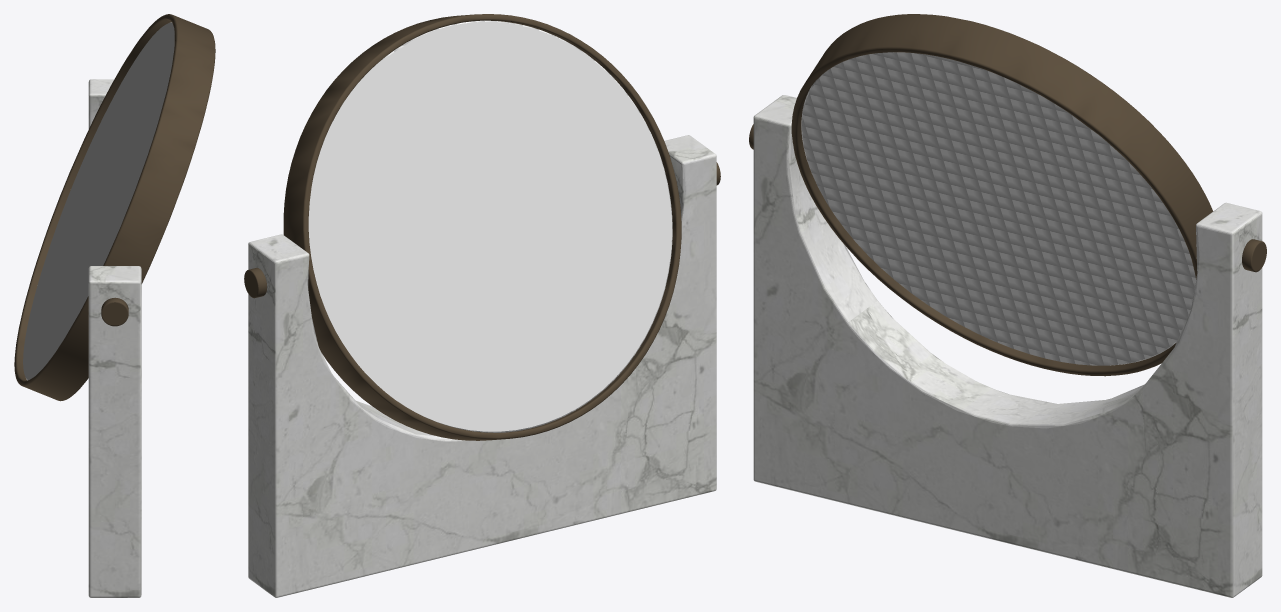
Rendered from decor_vanity_mirror.glb.
The picture shows the model from 3 angles, left to right: view 1: azimuth 30°, elevation 25°; view 2: azimuth 150°, elevation 25°; view 3: azimuth 270°, elevation 25°; orthographic projection. The views are drawn at different scales.
Parts seen in each view (by area): view 1: Geom3D (×2), Geom3D_3DGeom~23_Defintion_3DGeom~23, Geom3D_3DGeom~21_Defintion_3DGeom~21; view 2: Geom3D (×2), Geom3D_3DGeom~23_Defintion_3DGeom~23, Geom3D_3DGeom~18_Defintion_3DGeom~18; view 3: Geom3D, Geom3D_3DGeom~18_Defintion_3DGeom~18, Geom3D_3DGeom~23_Defintion_3DGeom~23, Geom3D_3DGeom~20_Defintion_3DGeom~20.
Part boxes in pixels (left/top/right/bottom): Geom3D (×2): left=23, top=23, right=174, bottom=597; Geom3D_3DGeom~23_Defintion_3DGeom~23: left=14, top=14, right=215, bottom=401; Geom3D_3DGeom~21_Defintion_3DGeom~21: left=101, top=297, right=128, bottom=326; Geom3D (×2): left=248, top=22, right=716, bottom=597; Geom3D_3DGeom~23_Defintion_3DGeom~23: left=283, top=14, right=681, bottom=440; Geom3D_3DGeom~18_Defintion_3DGeom~18: left=381, top=20, right=672, bottom=432; Geom3D: left=753, top=95, right=1262, bottom=597; Geom3D_3DGeom~18_Defintion_3DGeom~18: left=801, top=52, right=1195, bottom=365; Geom3D_3DGeom~23_Defintion_3DGeom~23: left=791, top=14, right=1213, bottom=376; Geom3D_3DGeom~20_Defintion_3DGeom~20: left=1242, top=239, right=1266, bottom=272.
Size of the model in its own units: 0.1182 by 0.2125 by 0.1866.
4 materials, 2 textured.
